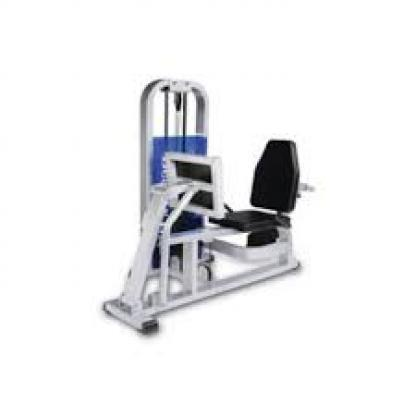leg press: (82, 68, 329, 358)
